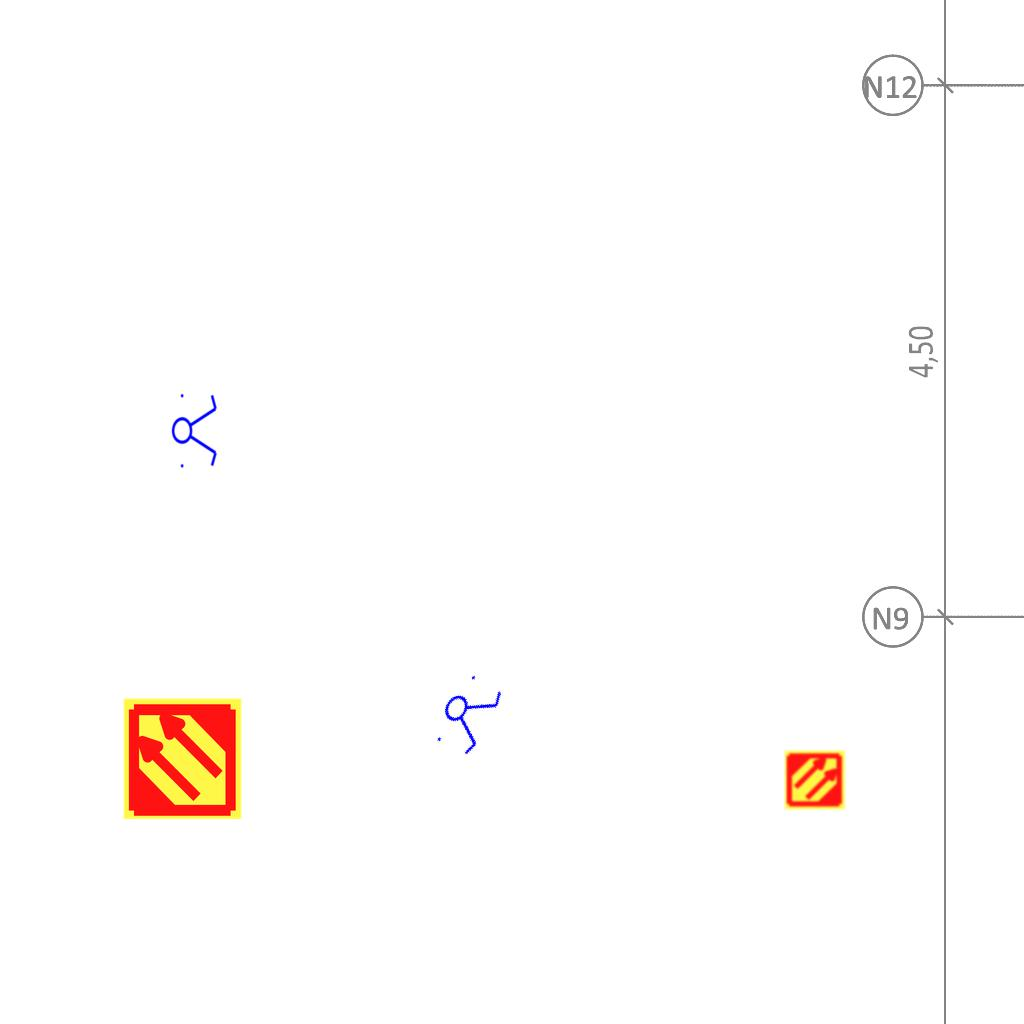ASR_Ansaugrauchmelder: (120, 696, 245, 821), (784, 749, 846, 811)
Serienschalter: (426, 665, 510, 763), (171, 388, 219, 472)
